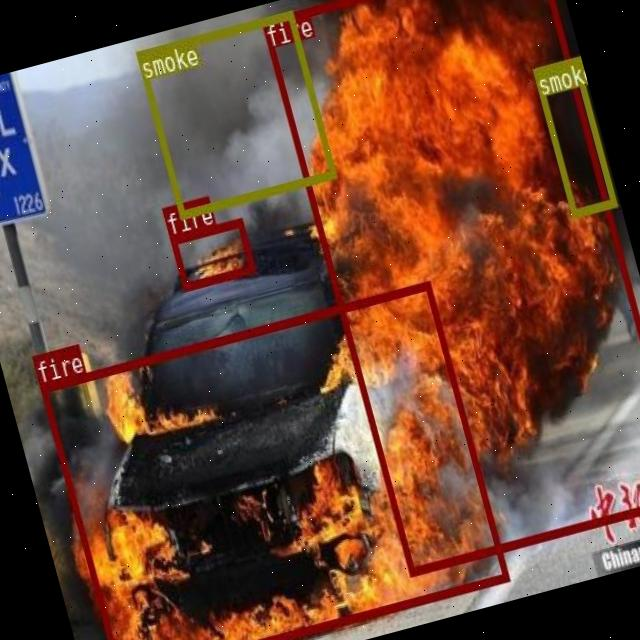fire: (259, 0, 640, 576), (38, 279, 507, 640), (168, 217, 255, 290)
smoke: (135, 9, 335, 218), (532, 56, 616, 218)
